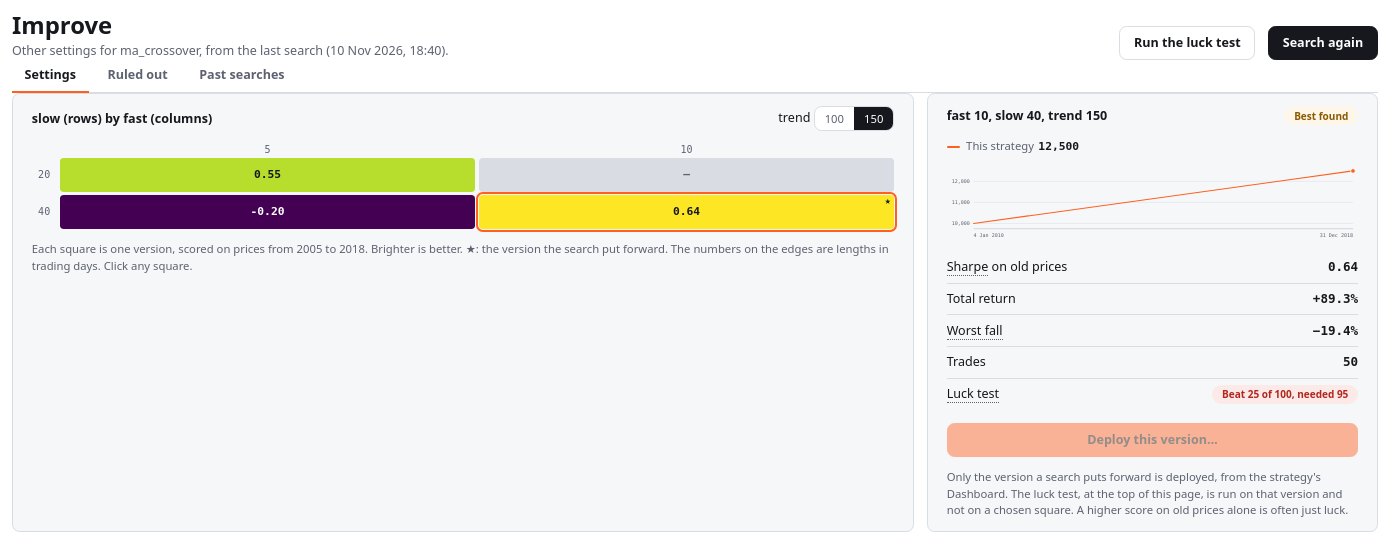
Improve › lists what was ruled out across the project, once each, in plain words
Click the tab "Ruled out": (138,76) [95,60,180,93]
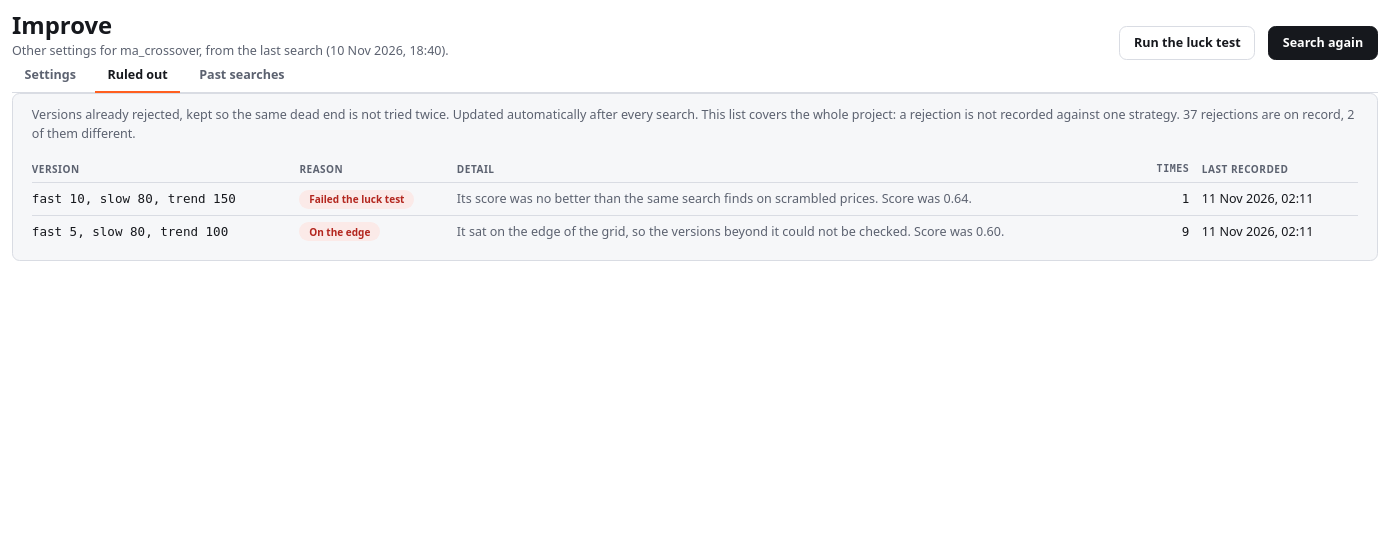
Now the text "Failed the luck test" is shown, box [299,190,414,209]
Now the text "On the edge" is shown, box [299,222,380,241]
Now the text "37 rejections are on record, 2 of them different" is shown, box [32,106,1358,143]
